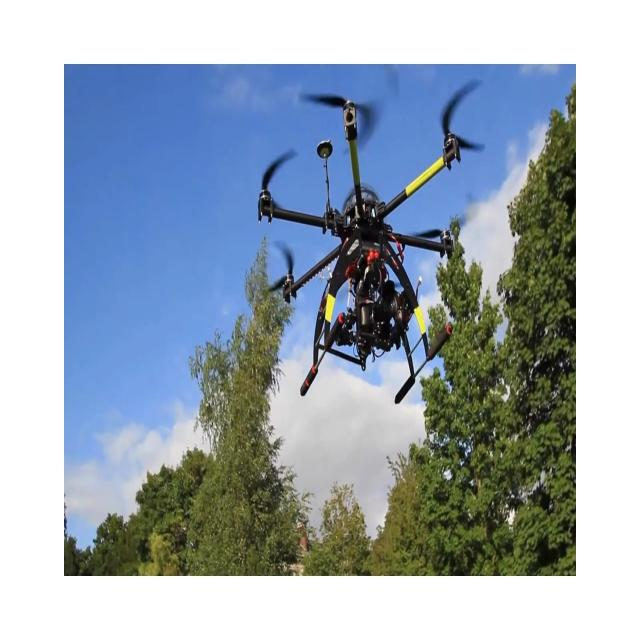drone: (254, 78, 486, 404)
